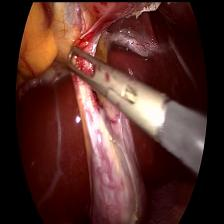Grasper: (63, 40, 124, 102)
